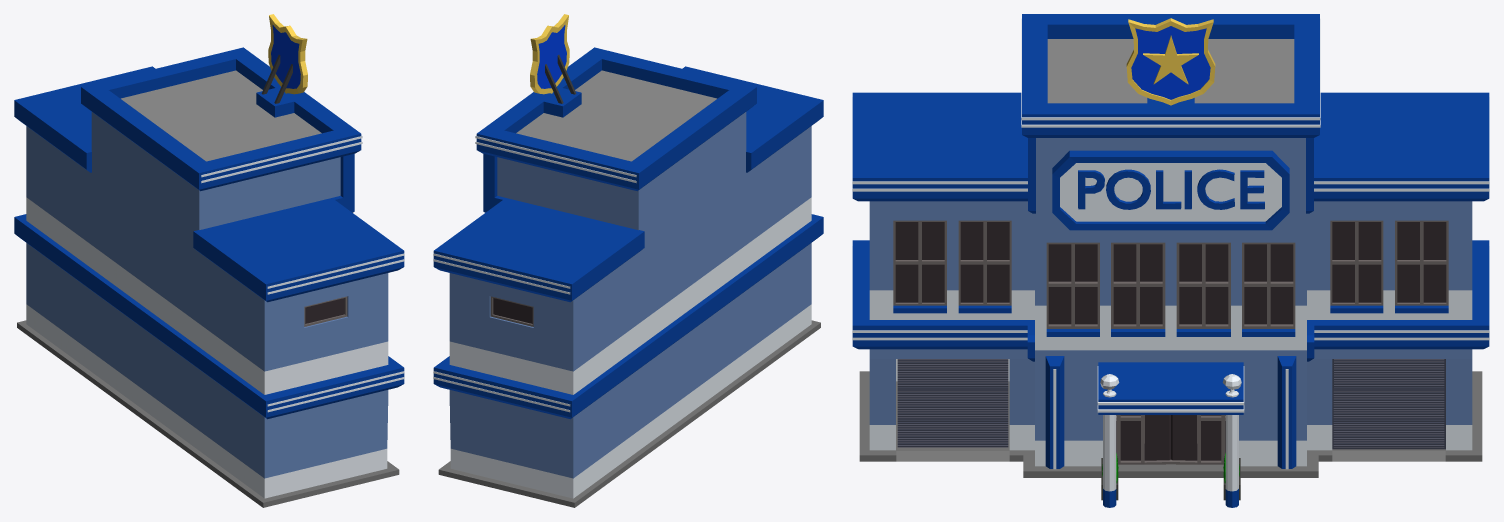
File: SM_Building_Police.fbx
The picture shows the model from 3 angles, left to right: view 1: azimuth 30°, elevation 25°; view 2: azimuth 150°, elevation 25°; view 3: azimuth 270°, elevation 25°; orthographic projection. The views are drawn at different scales.
Parts seen in each view (by area): view 1: PublicBuilding_Police; view 2: PublicBuilding_Police; view 3: PublicBuilding_Police.
Part boxes in pixels (x1=…): PublicBuilding_Police: x1=14, y1=14, x2=404, y2=507; PublicBuilding_Police: x1=433, y1=14, x2=823, y2=507; PublicBuilding_Police: x1=852, y1=14, x2=1489, y2=507.
Size of the model in its own units: 444 by 700 by 900.
Materials: 1 (1 with a texture image).
